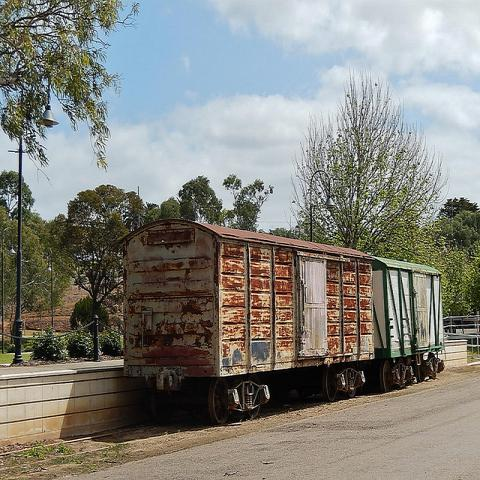truck: (123, 218, 443, 416)
